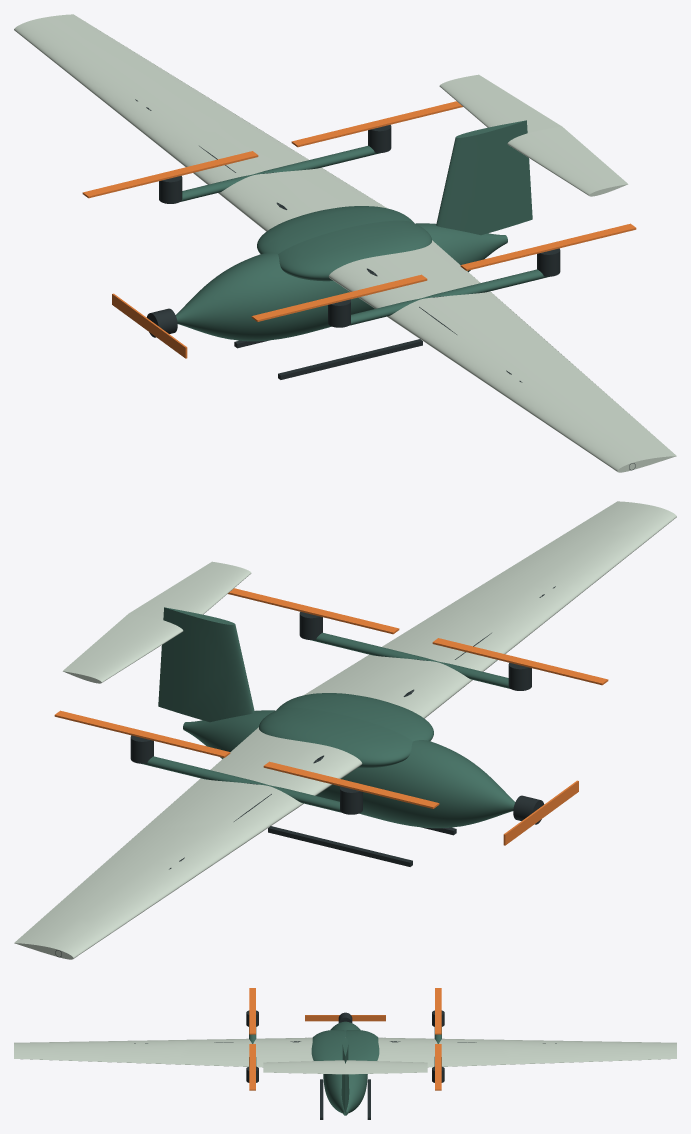
Rendered from control-06-model.glb.
3 renders of one model, top to bottom at view 1: azimuth 30°, elevation 25°; view 2: azimuth 150°, elevation 25°; view 3: azimuth 270°, elevation 25°, orthographic. The views are drawn at different scales.
Parts seen in each view (by area): view 1: wing-1, wing1, fuselage, fin, root_fairing-1, tail-1, root_fairing1, tail1, boom_fairing-1, boom_fairing1, prop_1_200.0, prop_-1_200.0 (+4 smaller); view 2: wing1, wing-1, fuselage, fin, root_fairing1, tail1, root_fairing-1, tail-1, boom_fairing1, boom_fairing-1, prop_-1_200.0, prop_1_200.0 (+4 smaller); view 3: wing-1, wing1, fuselage, tail-1, tail1, root_fairing-1, root_fairing1, cruise_prop, fin, prop_-1_200.0, prop_-1_700.0, prop_1_200.0 (+1 smaller).
Part boxes in pixels (x1,y1,x2,y2): wing-1: (328, 240, 676, 472); wing1: (14, 14, 386, 231); fuselage: (175, 223, 507, 341); fin: (436, 120, 532, 235); root_fairing-1: (278, 220, 431, 281); tail-1: (507, 126, 628, 196); root_fairing1: (257, 206, 413, 254); tail1: (439, 74, 561, 132); boom_fairing-1: (349, 269, 549, 325); boom_fairing1: (180, 145, 380, 201); prop_1_200.0: (82, 151, 258, 198); prop_-1_200.0: (251, 274, 427, 321); wing1: (14, 727, 362, 959); wing-1: (304, 501, 676, 718); fuselage: (183, 710, 515, 828); fin: (158, 607, 254, 722); root_fairing1: (259, 707, 412, 768); tail1: (62, 613, 183, 683); root_fairing-1: (277, 693, 433, 741); tail-1: (129, 561, 251, 619); boom_fairing1: (141, 756, 341, 812); boom_fairing-1: (310, 632, 510, 688); prop_-1_200.0: (432, 638, 608, 685); prop_1_200.0: (263, 761, 439, 808); wing-1: (14, 1037, 313, 1067); wing1: (377, 1037, 676, 1067); fuselage: (323, 1021, 367, 1115); tail-1: (263, 1060, 345, 1074); tail1: (345, 1060, 427, 1074); root_fairing-1: (311, 1030, 345, 1060); root_fairing1: (345, 1030, 379, 1060); cruise_prop: (305, 1015, 385, 1021); fin: (341, 1037, 349, 1113); prop_-1_200.0: (249, 988, 255, 1034); prop_-1_700.0: (249, 1044, 255, 1090); prop_1_200.0: (435, 988, 441, 1034).
Size of the model in its own units: 989 by 405 by 2500.
